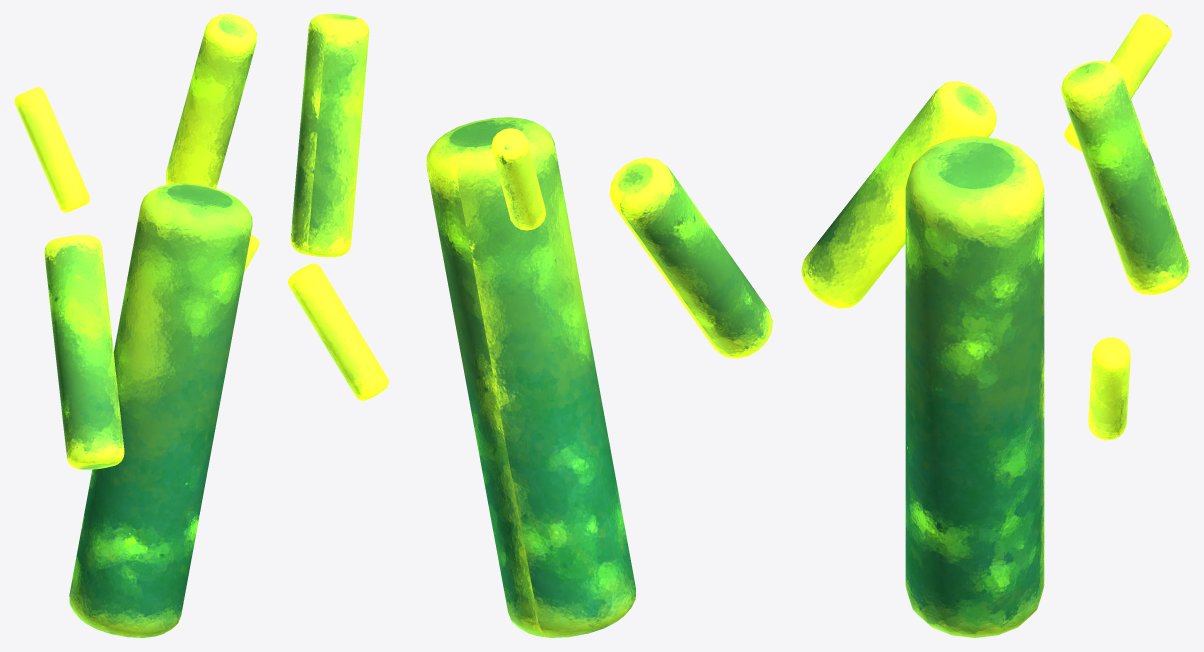
The model's file is Uranium.fbx.
The picture shows the model from 3 angles, left to right: view 1: azimuth 30°, elevation 25°; view 2: azimuth 150°, elevation 25°; view 3: azimuth 270°, elevation 25°; orthographic projection. The views are drawn at different scales.
Visible parts, largest first — view 1: Cylinder.003; view 2: Cylinder.003; view 3: Cylinder.003.
Boxes of the visible parts, bbox=[...] form: Cylinder.003: bbox=[14, 14, 259, 637]; Cylinder.003: bbox=[288, 14, 772, 637]; Cylinder.003: bbox=[801, 14, 1189, 637].
Bounding box in the file's own units: 5.71 × 9.67 × 5.3.
1 material, 1 textured.
